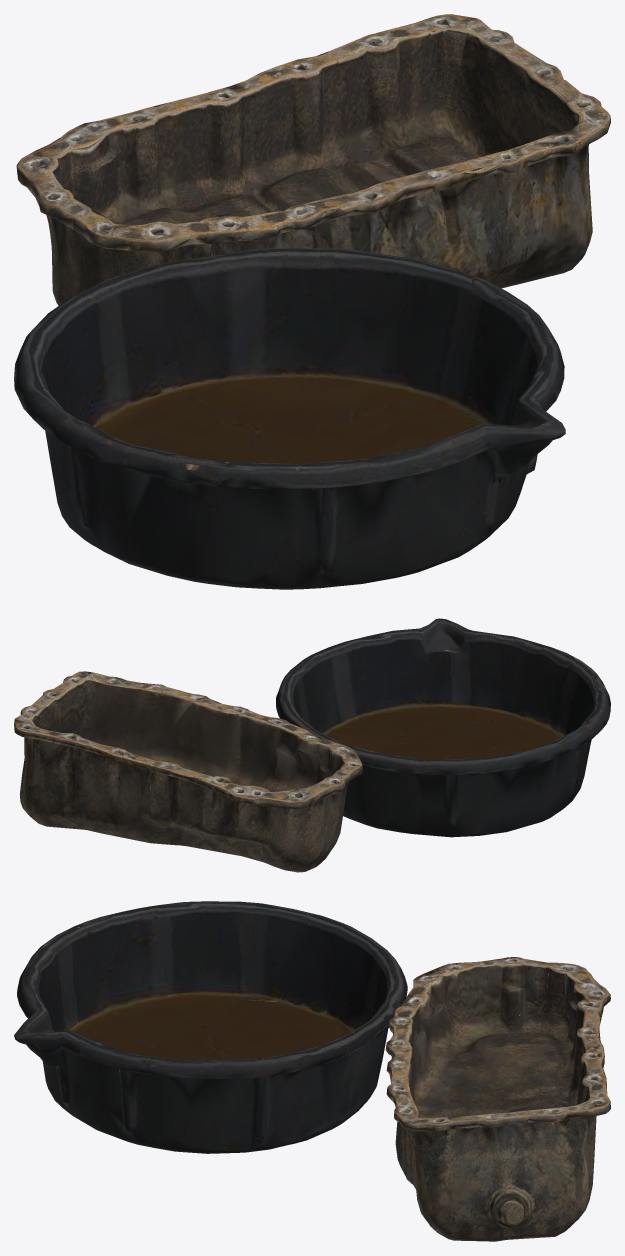
File: drainpan.glb
3 renders of one model, top to bottom at view 1: azimuth 30°, elevation 25°; view 2: azimuth 150°, elevation 25°; view 3: azimuth 270°, elevation 25°, orthographic. The views are drawn at different scales.
Bounding box in the file's own units: 1.9 × 0.4653 × 1.89.
Materials: 1 (1 with a texture image).
